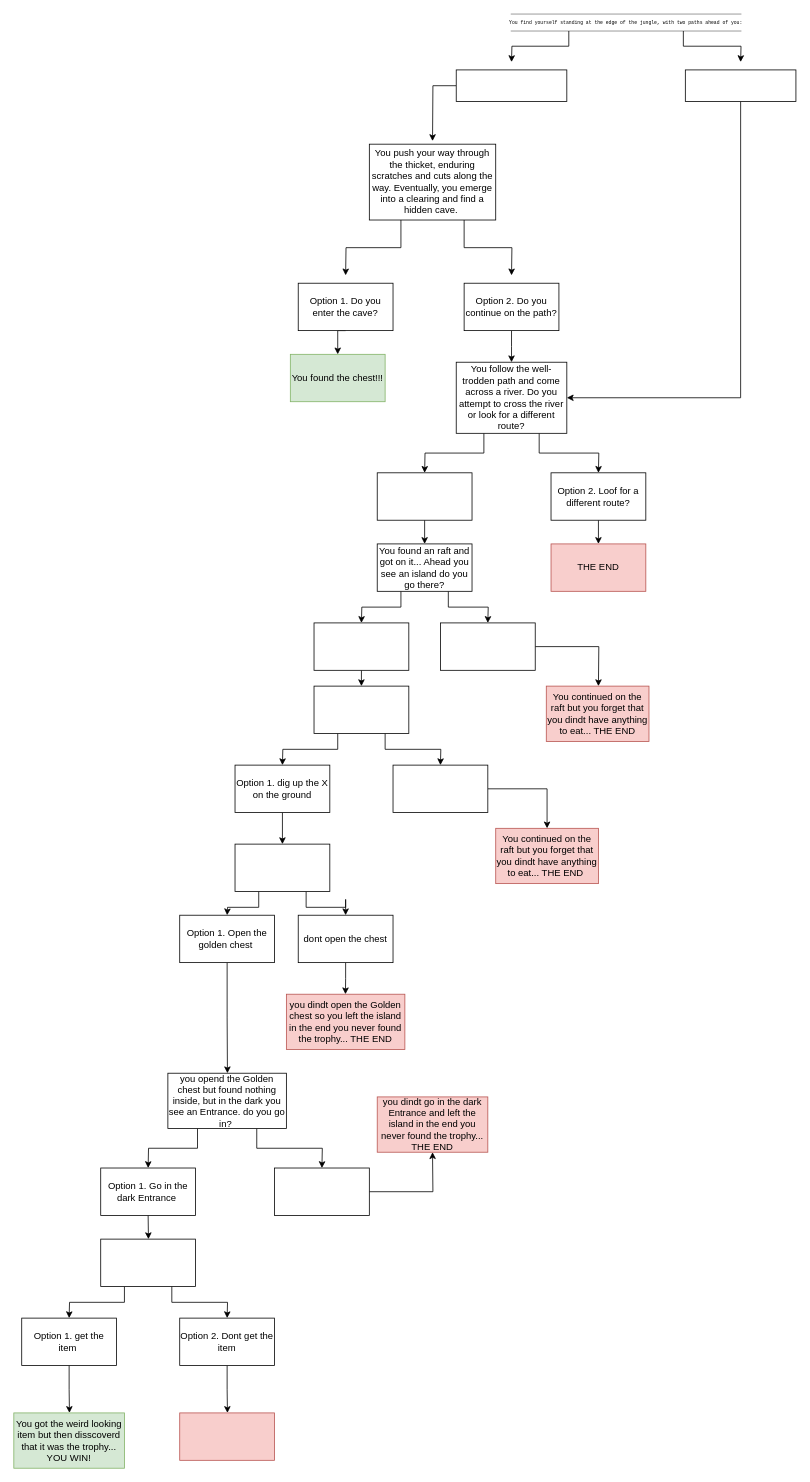
Some shapes in this 810 by 1482 pixel diagram are drawn without their labels. Each missing label, with the box of its shape:
Option 1. go to the island: (313, 622, 409, 670)
Option 1. This path leads through a dense thicket of thorns: (455, 69, 567, 102)
Option 1. You attempt to cross the river?: (376, 472, 472, 520)
Option 2. continue on the raft: (440, 622, 535, 670)
Option 2. Dont go in the dark Entrance: (274, 1167, 369, 1215)
Option 2. go back on the raft: (392, 764, 488, 813)
Option 2. This path seems to be clear and well - trodden: (685, 69, 796, 102)
When you got to the island you found an X marked on the ground.: (313, 685, 409, 734)
you digged at the X mark and found a Golden chest! do you want to open it?: (234, 843, 330, 892)
you dindt get the item and was now trapped in the dark cave... THE END: (179, 1412, 275, 1460)
you went in the Dark Entrance en found an weird looking item.: (100, 1238, 196, 1287)
